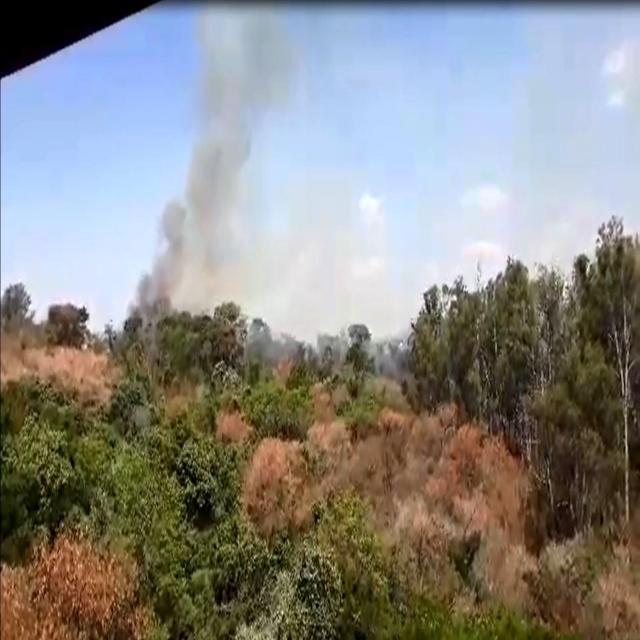Smoke: (134, 8, 290, 320)
